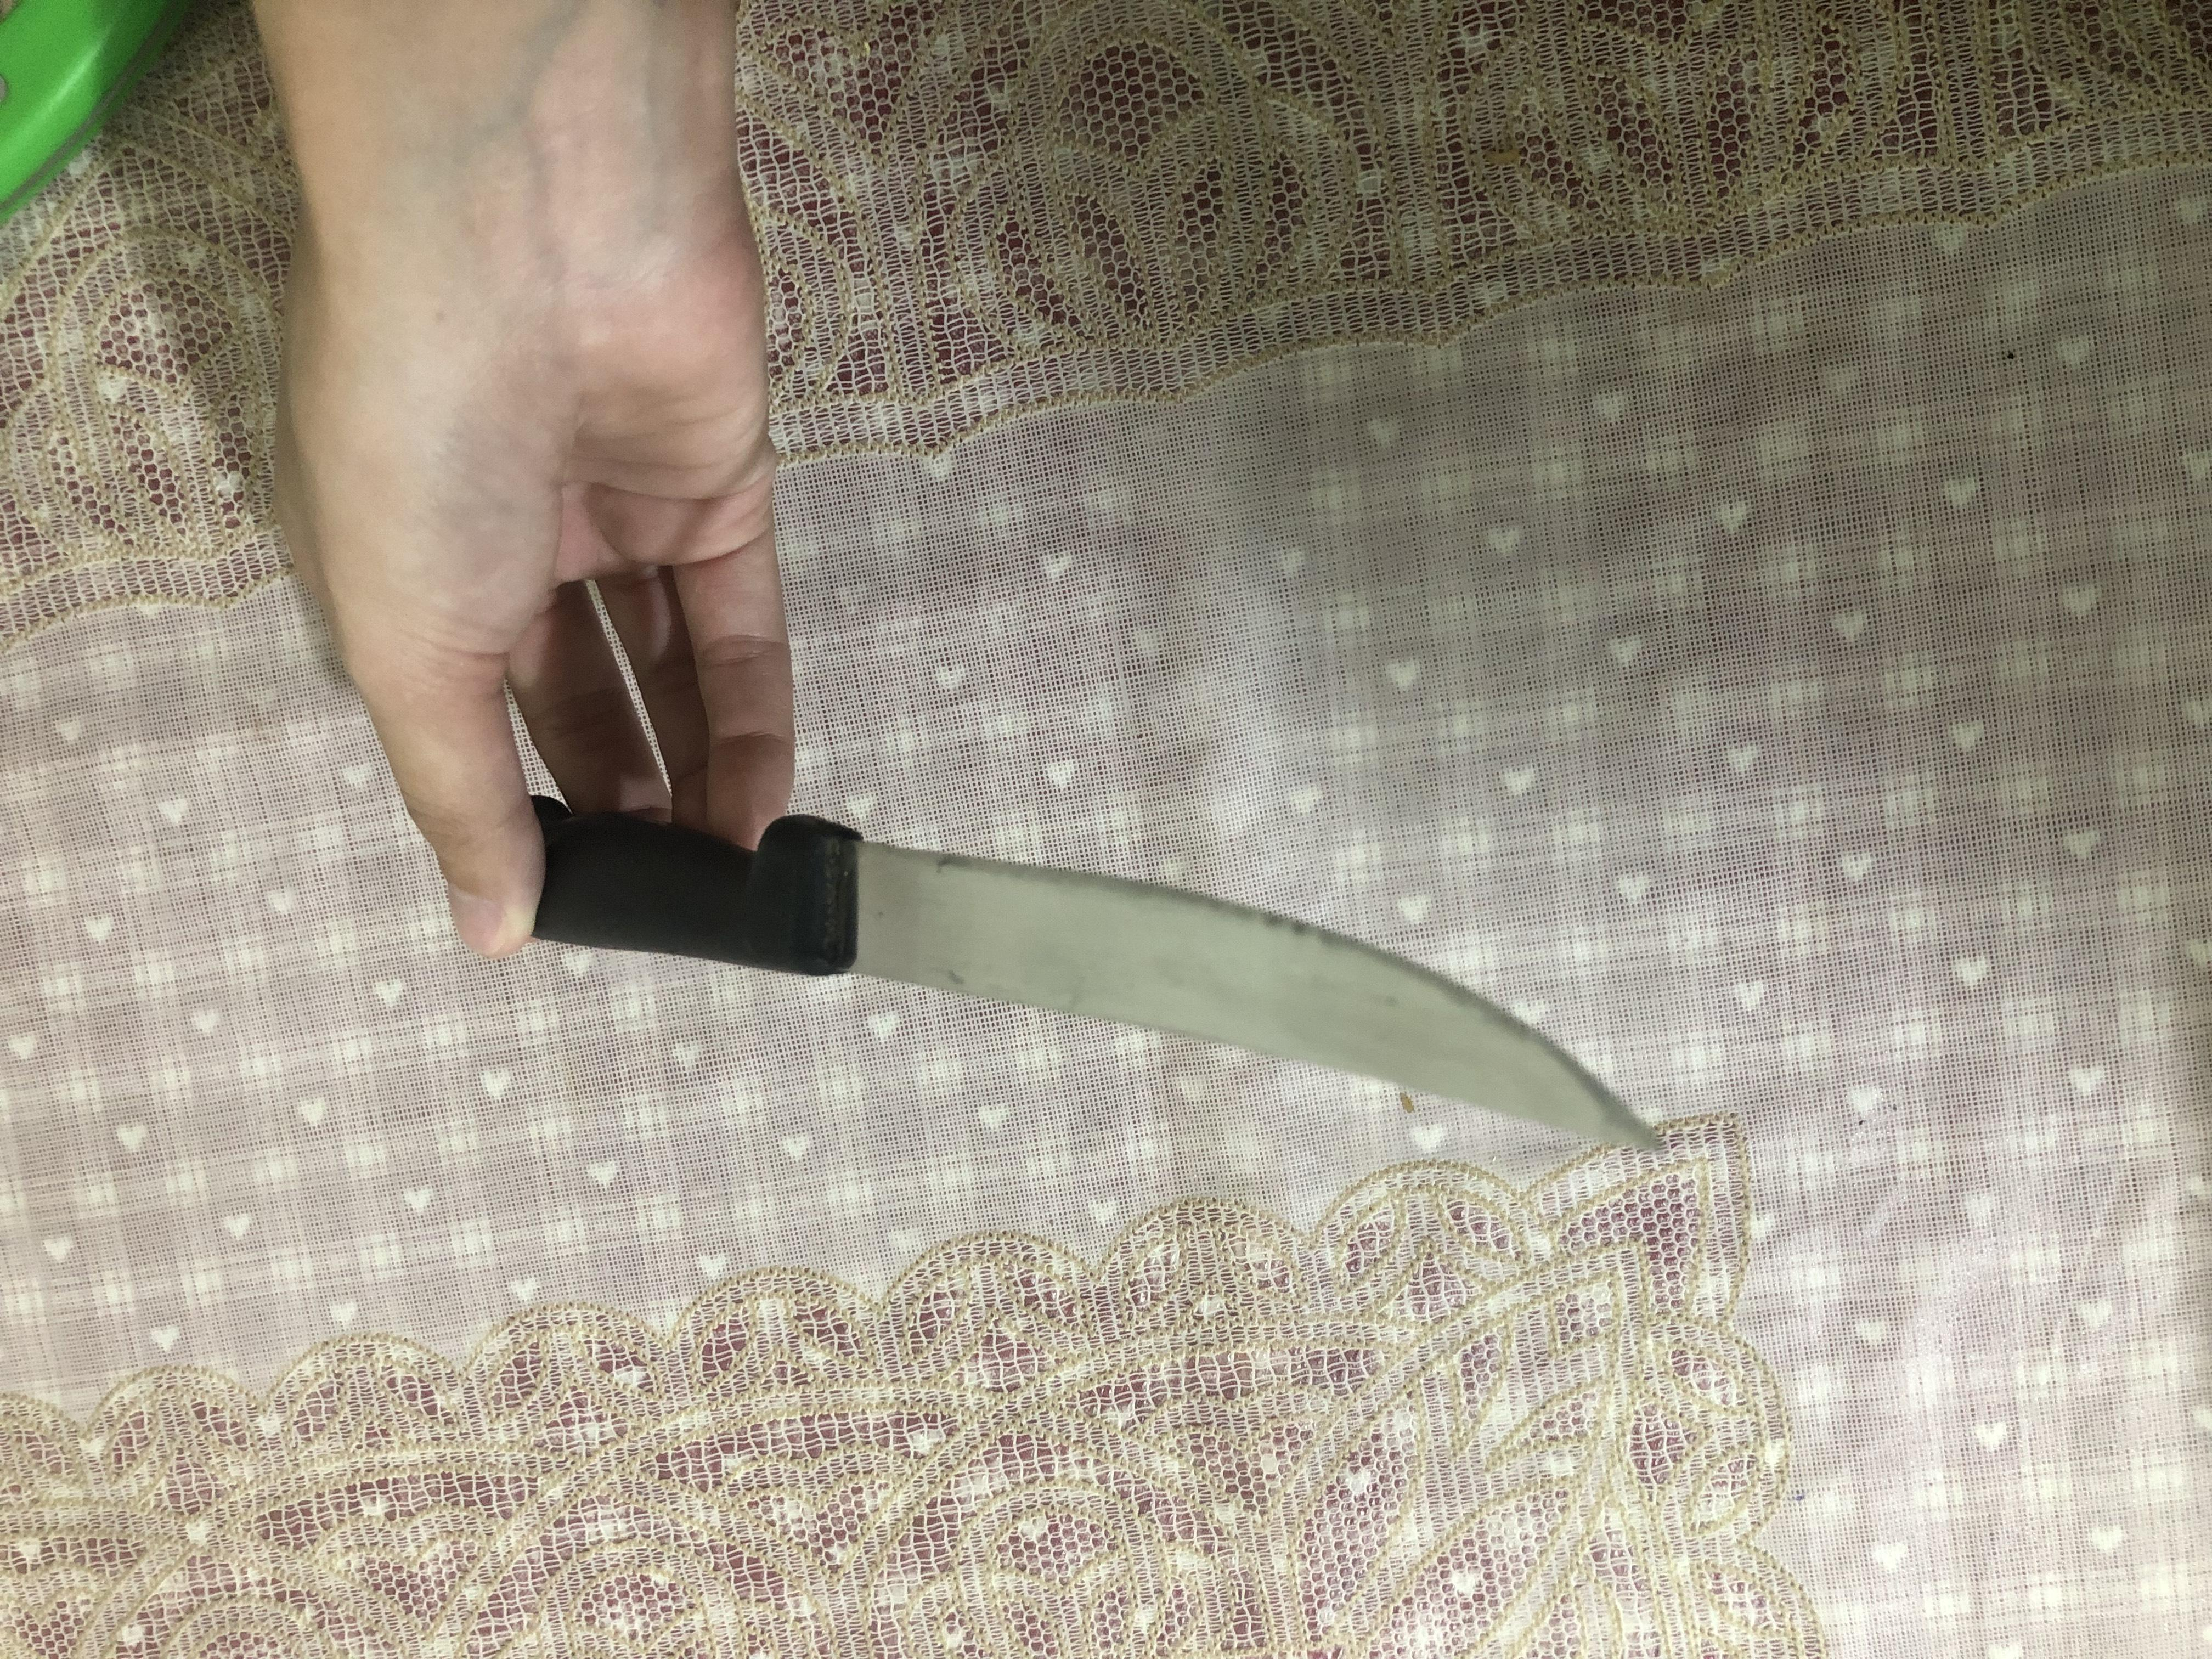weapon: (658, 397, 1172, 1249)
